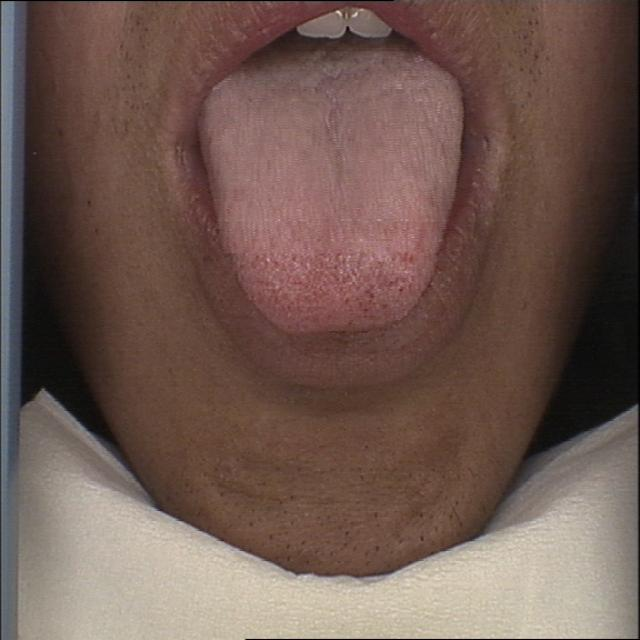tongue: (198, 47, 476, 340)
